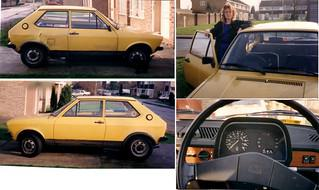doorouter-dent: (31, 26, 65, 53)
